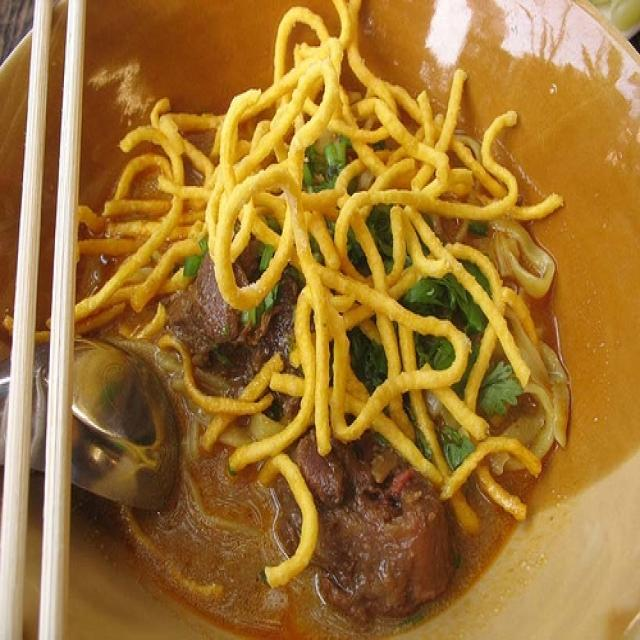面条主食: (41, 29, 599, 618)
